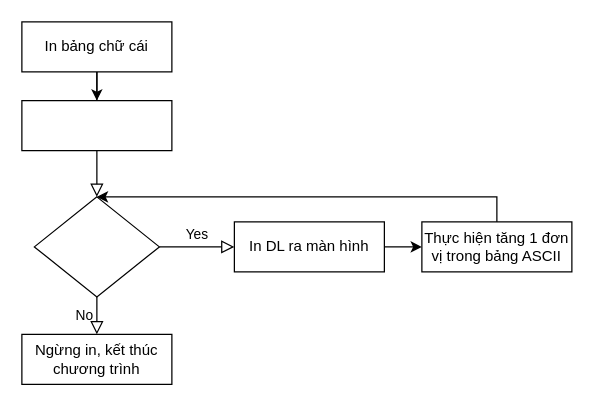
The diagram is 594 pixels wide and 406 high, and some of its shapes have lost their labels. Here are the shapes that lost their labels. From the top down, the centre of each, then its label:
At point 96,125: "Đặt DL = 'A'".
At point 96,246: "Ký tự <= 'Z'?".
